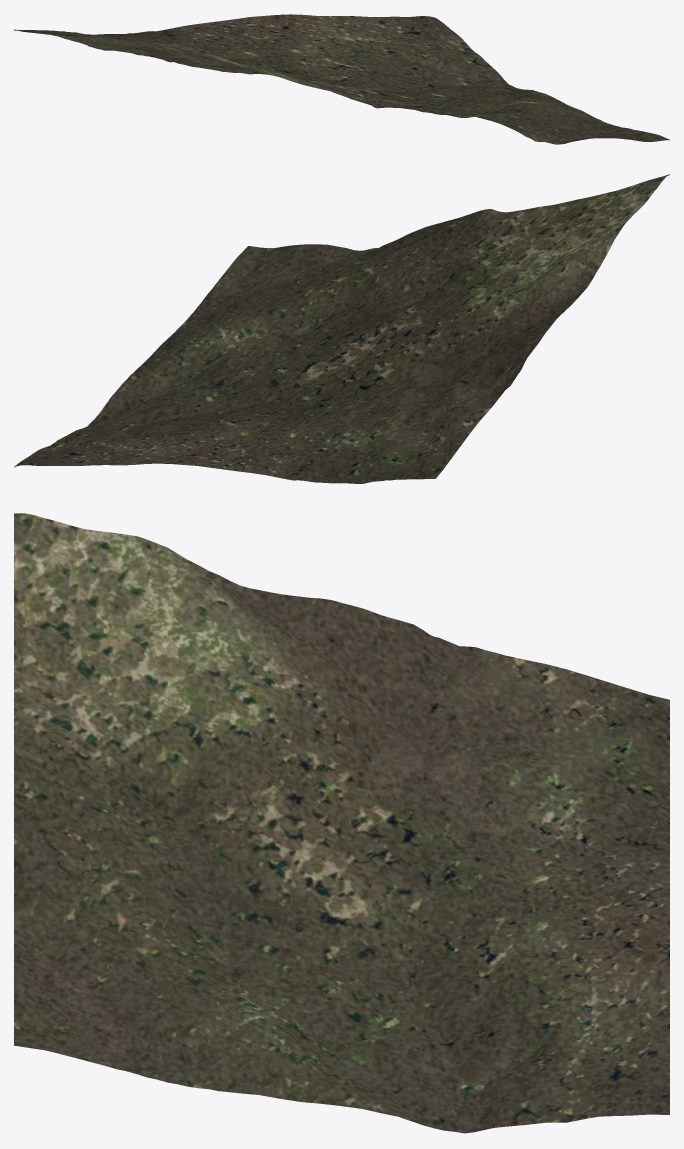
The picture shows the model from 3 angles, top to bottom: view 1: azimuth 30°, elevation 25°; view 2: azimuth 150°, elevation 25°; view 3: azimuth 270°, elevation 25°; orthographic projection. The views are drawn at different scales.
Size of the model in its own units: 500 by 270 by 481.
1 material, 1 textured.
